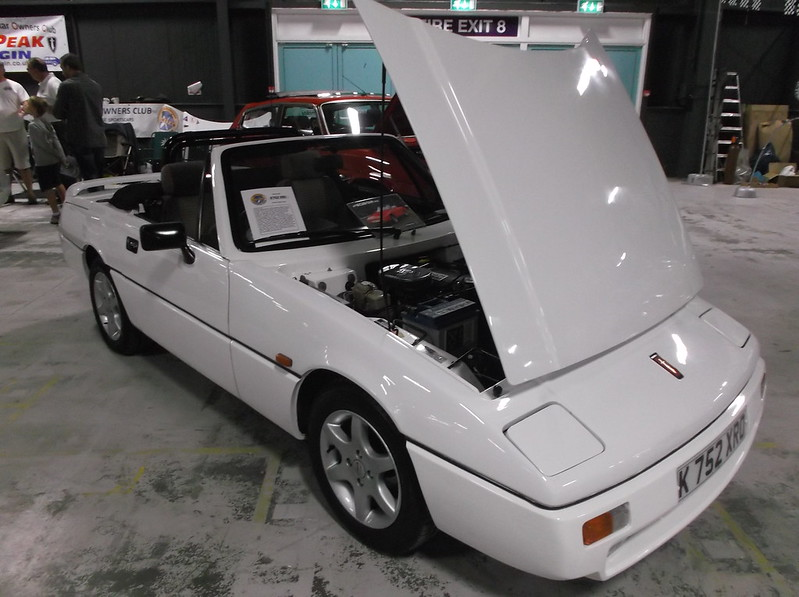number_plate: (638, 408, 773, 512)
